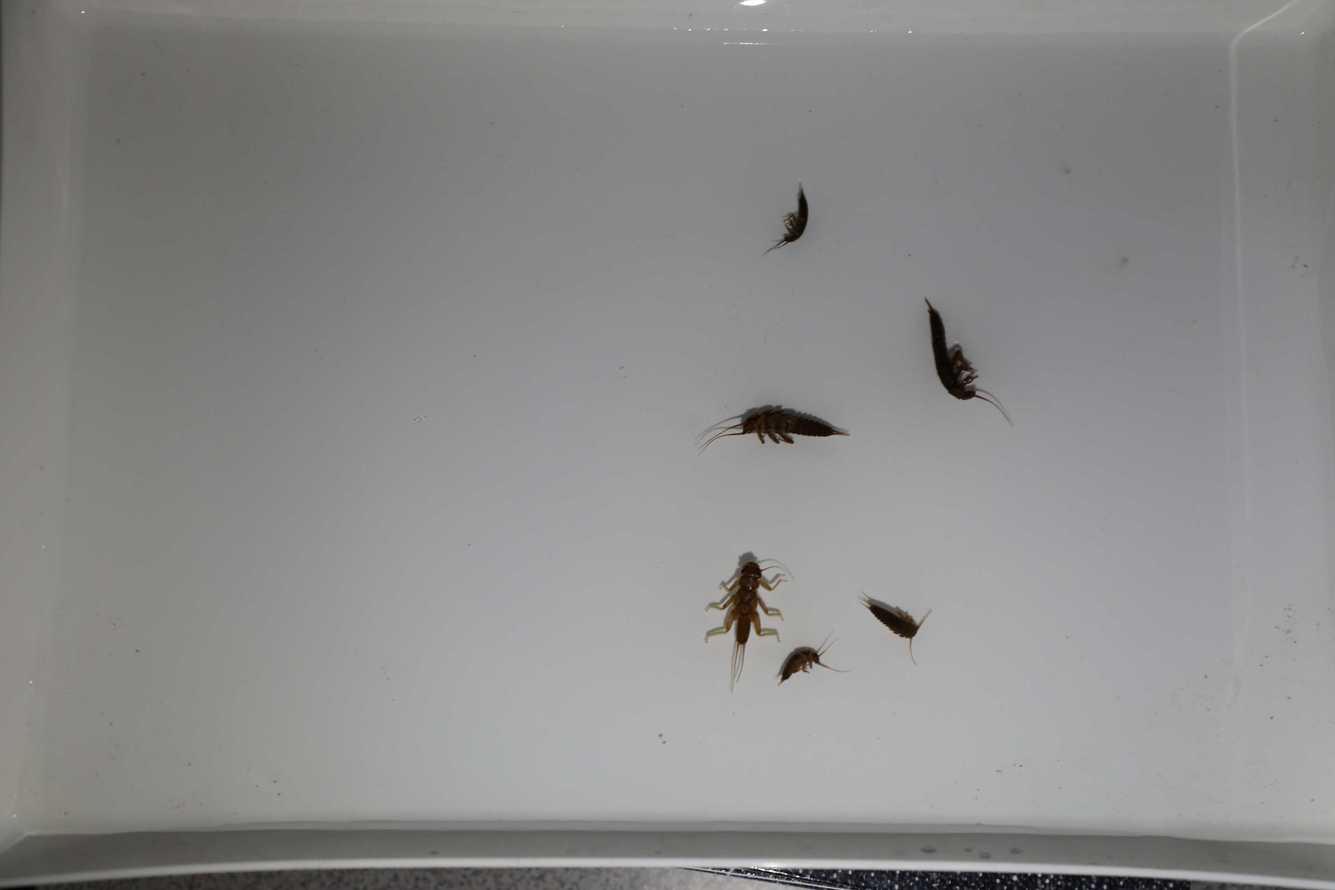Stonefly: (923, 292, 1019, 433), (705, 540, 783, 687), (698, 395, 850, 466), (854, 586, 930, 670), (761, 180, 812, 263), (773, 636, 836, 689)
